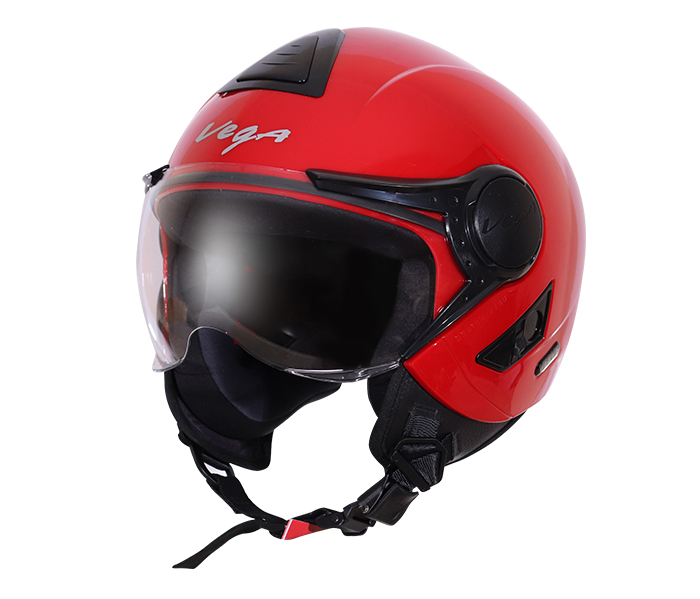with_helmet: (121, 21, 593, 490)
